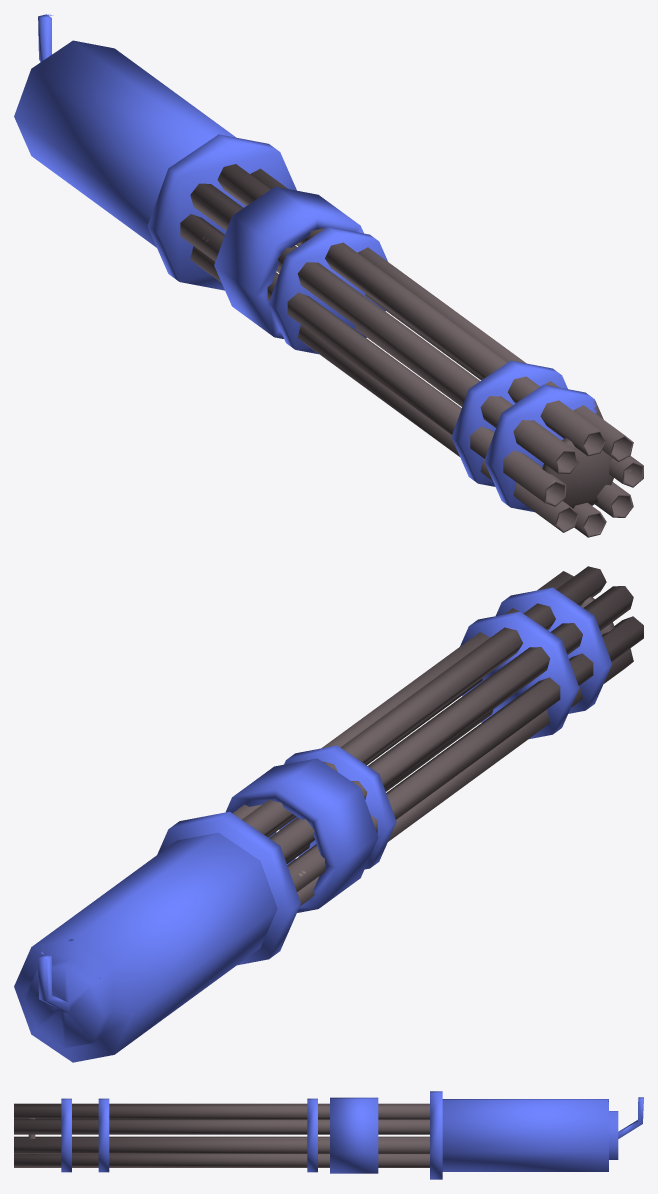
File: MiniGun.fbx
3 views of the same model, one above another, from view 1: azimuth 30°, elevation 25°; view 2: azimuth 150°, elevation 25°; view 3: azimuth 270°, elevation 25° (orthographic). The views are drawn at different scales.
Visible parts, largest first — view 1: cylinder3; view 2: cylinder3; view 3: cylinder3.
Boxes of the visible parts, x1,y1,x2,y2 form: cylinder3: (14, 14, 643, 537); cylinder3: (14, 566, 643, 1062); cylinder3: (14, 1091, 643, 1179).
Size of the model in its own units: 68.61 by 68.61 by 460.
Materials: 1 (1 with a texture image).
